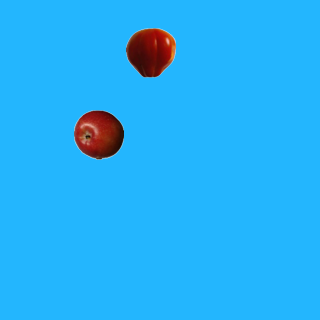Apple Braeburn: (73, 109, 123, 159)
Tomato 1: (125, 27, 175, 77)
